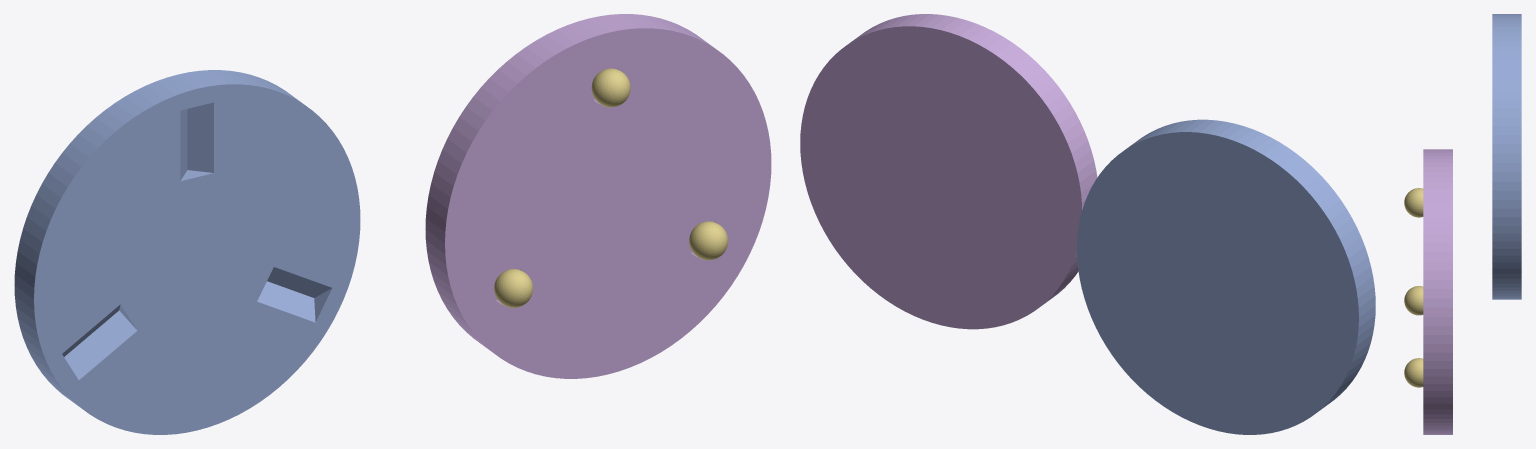
Rendered from kinematic_coupling_demo.glb.
3 views of the same model, side by side, from view 1: azimuth 30°, elevation 25°; view 2: azimuth 150°, elevation 25°; view 3: azimuth 270°, elevation 25° (orthographic). The views are drawn at different scales.
Parts seen in each view (by area): view 1: coupling_base, coupling_top, coupling_balls; view 2: coupling_base, coupling_top; view 3: coupling_base, coupling_top, coupling_balls.
Part boxes in pixels (box(x1,y1,x2,y2)): coupling_base: box(14, 70, 360, 434); coupling_top: box(425, 14, 771, 378); coupling_balls: box(494, 68, 727, 307); coupling_base: box(1077, 119, 1375, 434); coupling_top: box(800, 14, 1097, 329); coupling_base: box(1492, 14, 1521, 299); coupling_top: box(1423, 149, 1452, 434); coupling_balls: box(1404, 188, 1423, 387).
Bounding box in the file's own units: 123 × 58 × 23.84.
